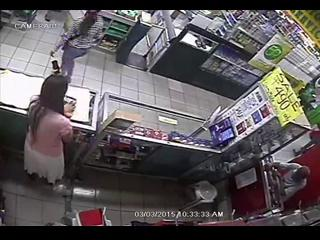Normal: (23, 74, 78, 192), (50, 11, 106, 84)
